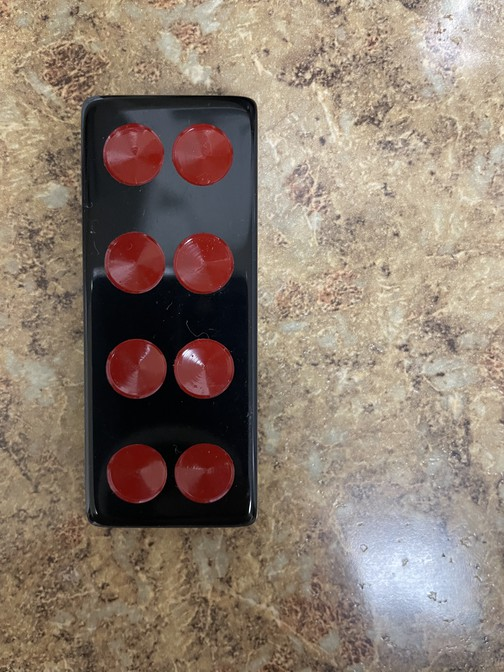man: (82, 97, 262, 527)
